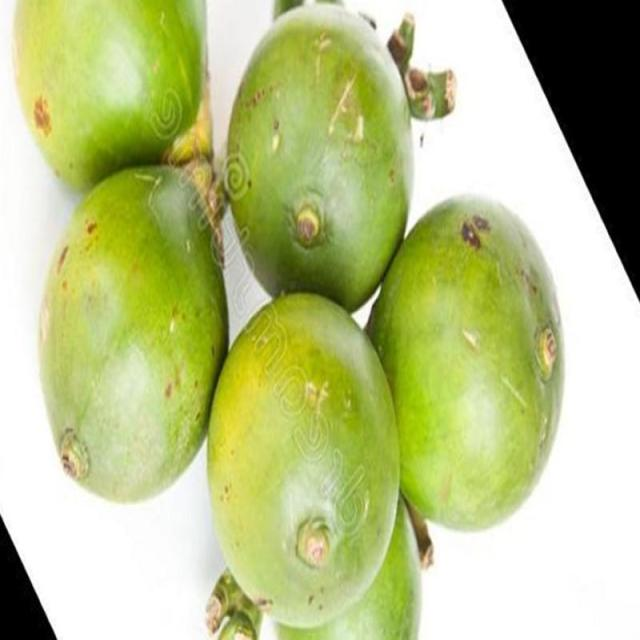good: (205, 293, 425, 639), (363, 195, 563, 534), (38, 165, 230, 507), (224, 2, 410, 318), (20, 0, 212, 194)
